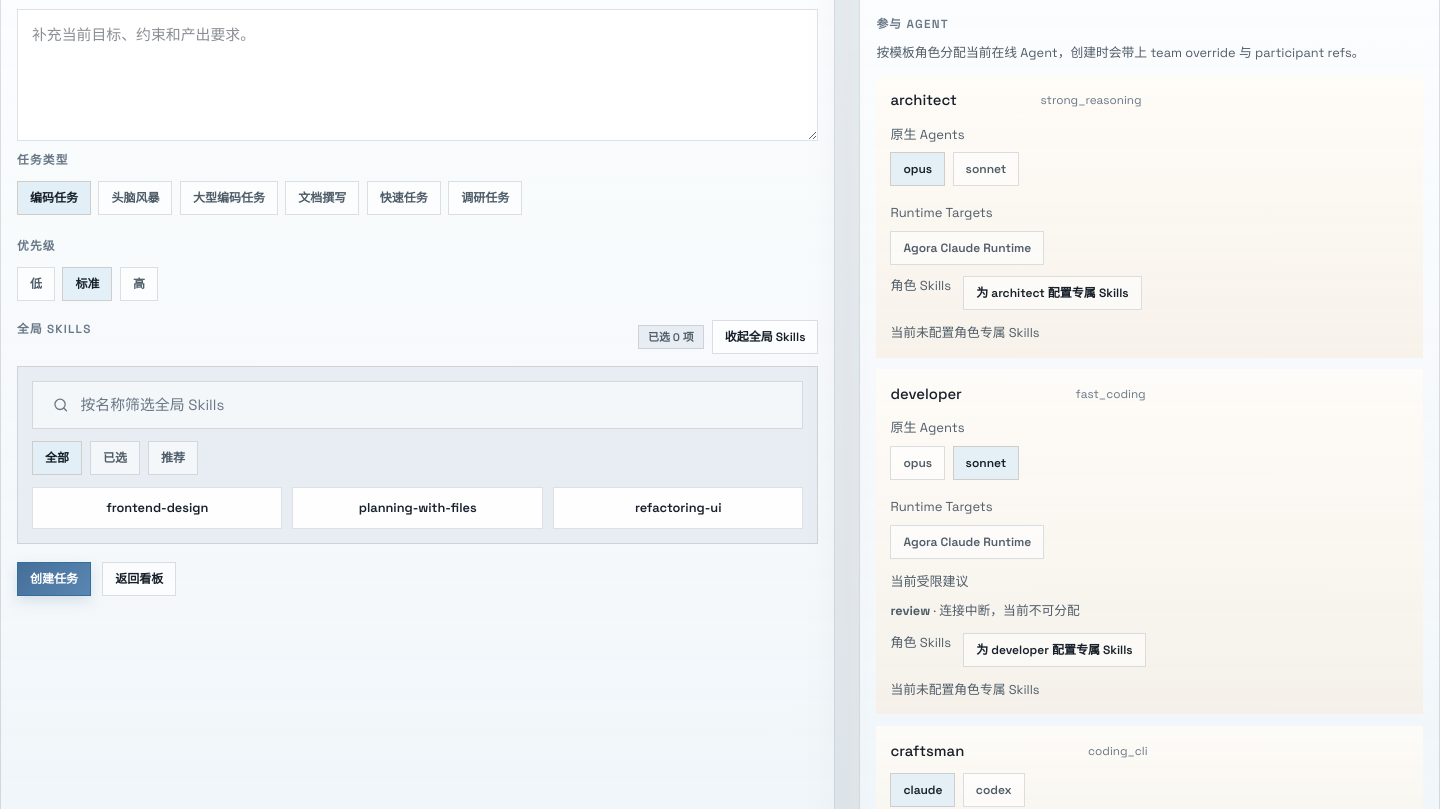
create task page › keeps the global skill picker open by default and filters the grid with search
The image size is (1440, 809).
(page scrolled)
Type "refactor" into the field named "搜索全局 Skills" at (431, 405), box [80,394,782,416]
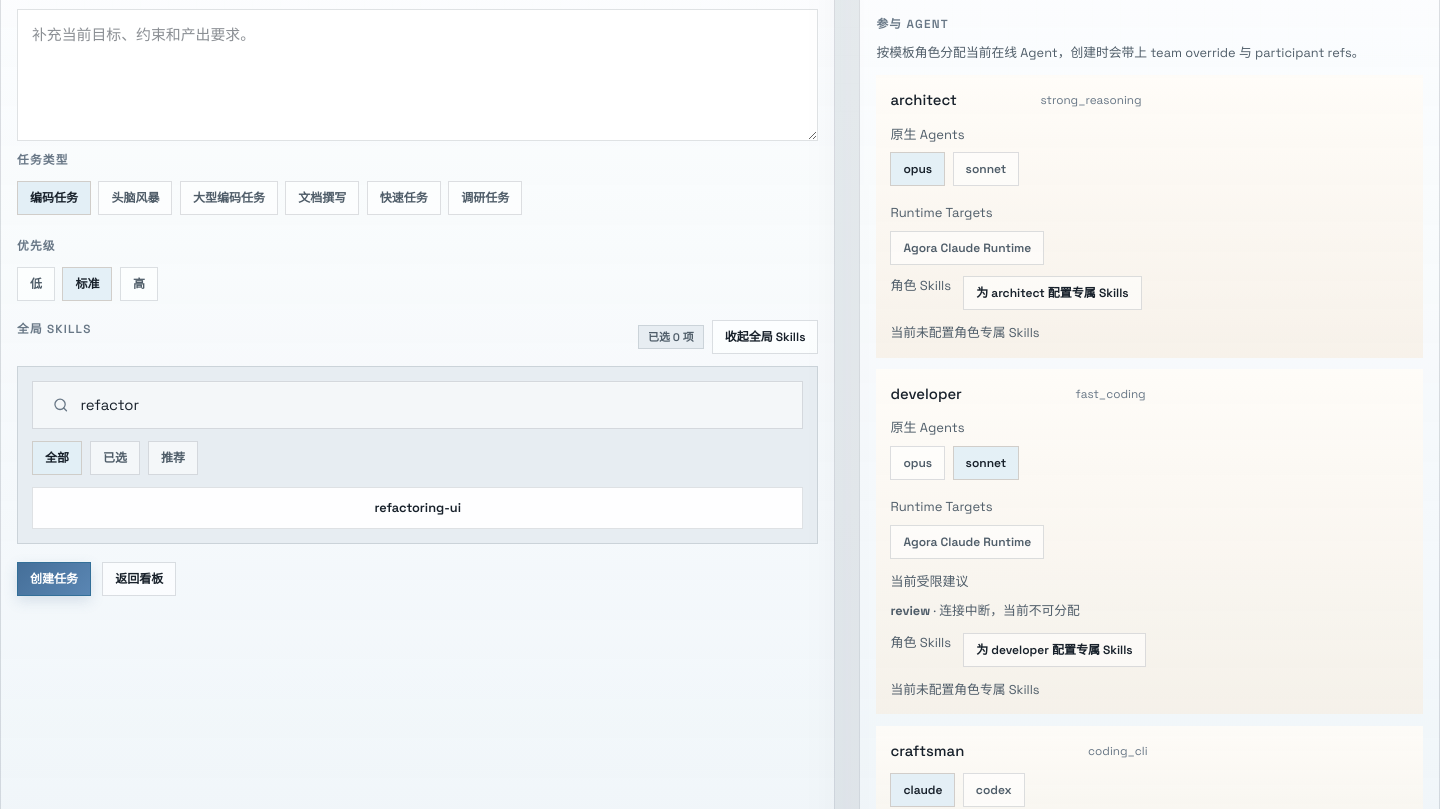
Expected: the button "refactoring-ui" is shown, [32,487,803,529]
Expected: the button "planning-with-files" is gone
Expected: the button "frontend-design" is gone
